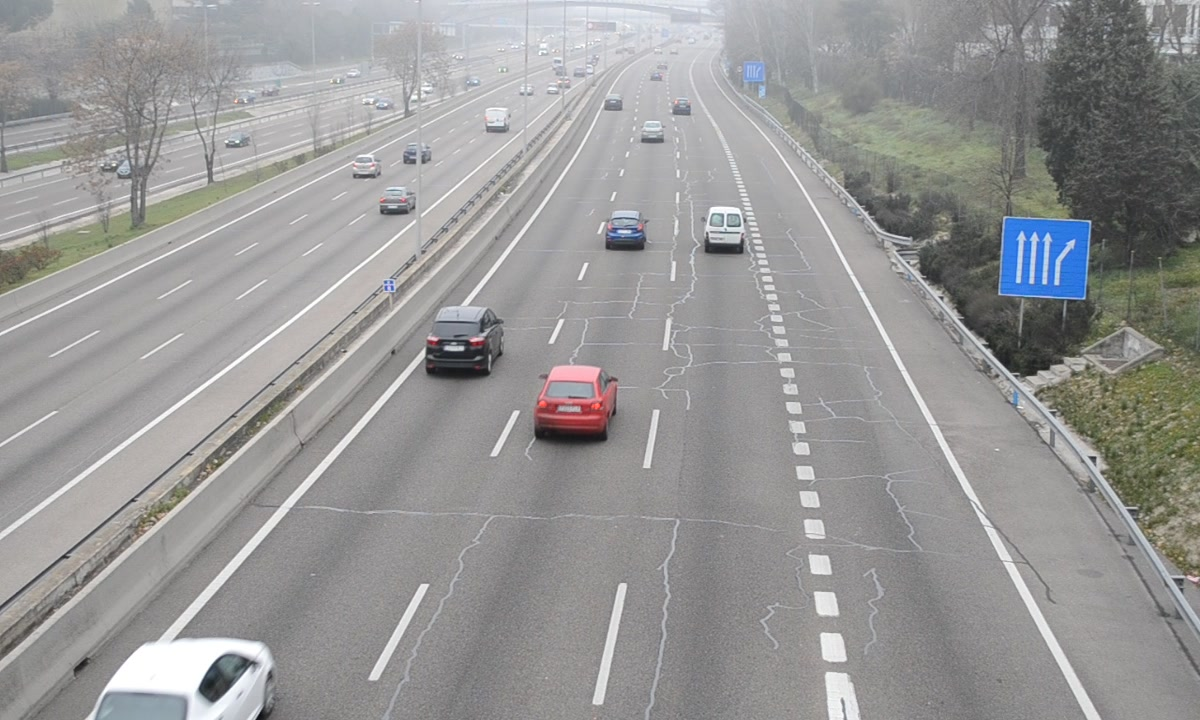car: (90, 637, 272, 720), (535, 366, 614, 436), (426, 307, 501, 373), (604, 209, 645, 248), (639, 120, 665, 143)
van: (704, 207, 745, 252)
